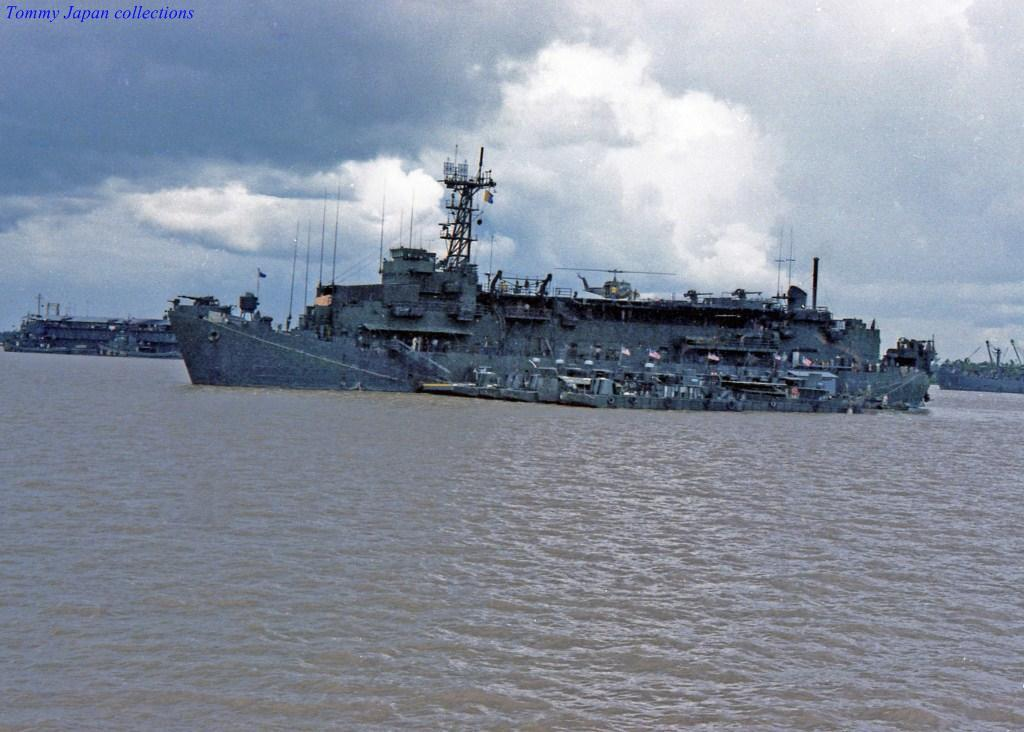Warship: (153, 159, 951, 392)
